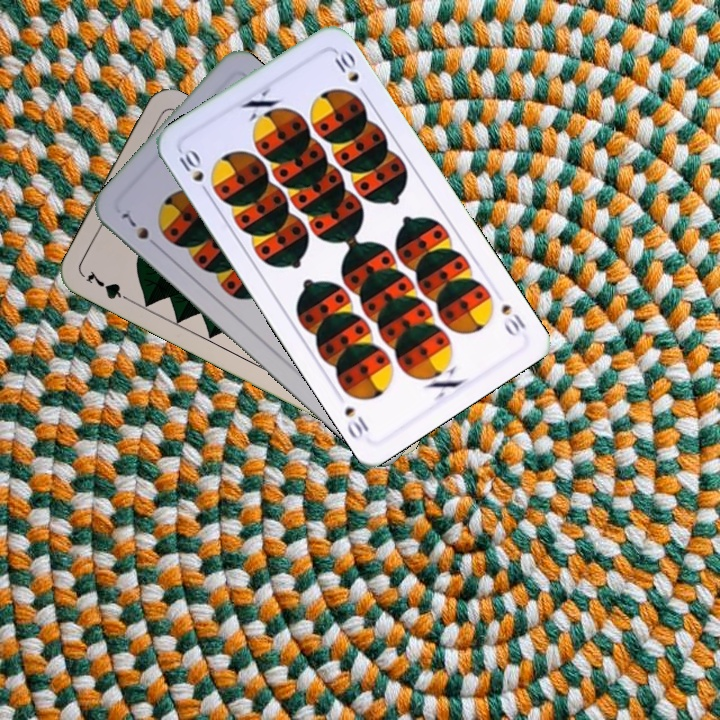G7: (81, 266, 136, 305)
S10: (174, 144, 213, 199), (497, 299, 529, 340)
S7: (114, 205, 163, 252)
